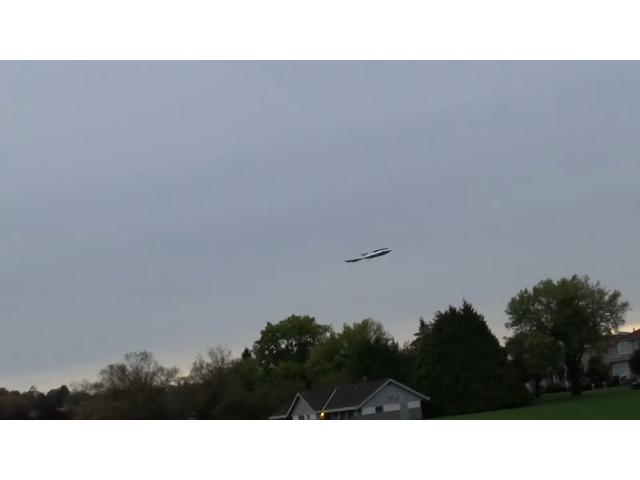Anti-Drone: (346, 246, 390, 262)
